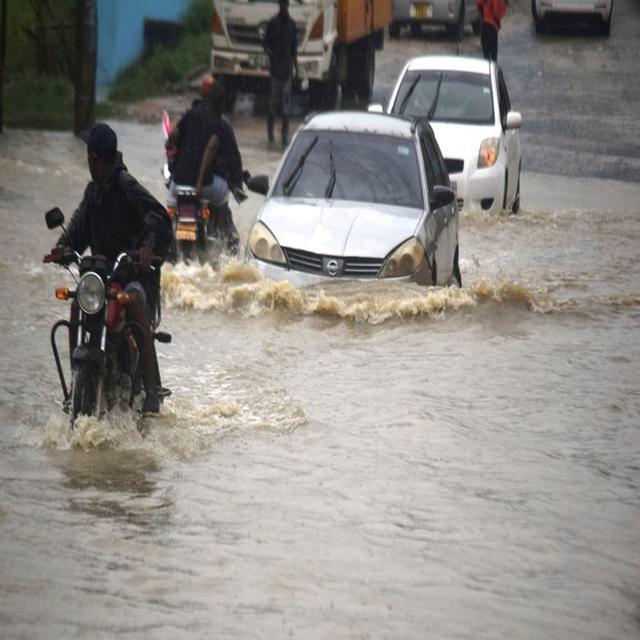Car-RiskLevel3: (246, 100, 468, 294), (377, 51, 539, 219)
Person-RiskLevel1: (260, 0, 298, 149)
Person-RiskLevel2: (40, 117, 185, 425), (161, 71, 253, 266)
